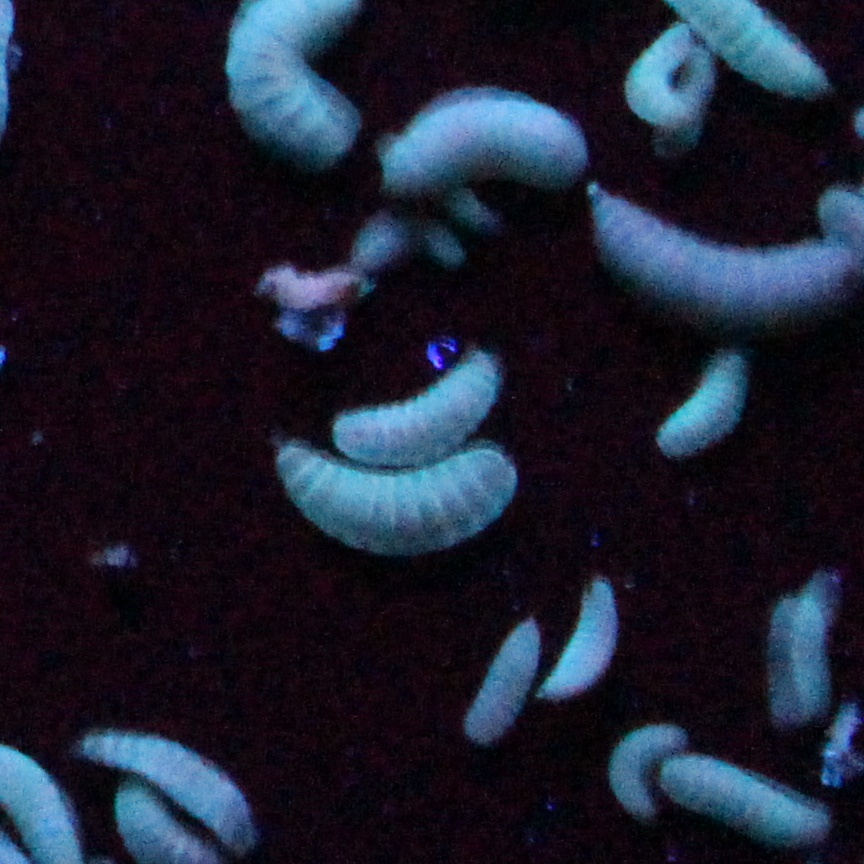larve: (578, 188, 846, 340), (246, 448, 514, 564), (394, 80, 582, 196), (90, 736, 262, 840), (334, 368, 498, 464), (650, 348, 758, 468), (466, 620, 534, 748), (628, 27, 714, 125), (546, 596, 626, 700), (602, 732, 666, 812)
